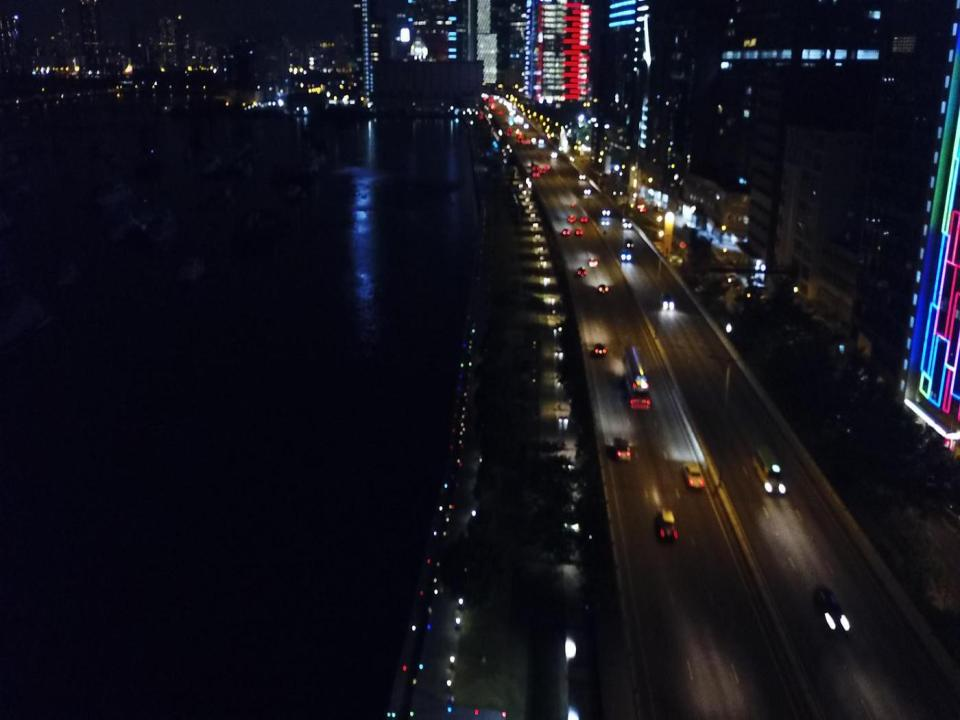bus: (752, 443, 785, 496)
car: (814, 584, 851, 634), (658, 509, 678, 538), (686, 464, 705, 489), (613, 436, 631, 461), (591, 341, 608, 357), (662, 296, 674, 313), (583, 186, 594, 200), (577, 265, 587, 280), (598, 283, 610, 295), (621, 217, 632, 230), (620, 252, 632, 263), (588, 257, 599, 267), (626, 237, 634, 250), (578, 172, 587, 183), (575, 227, 584, 236), (561, 228, 571, 236), (602, 208, 610, 218), (580, 216, 589, 224), (568, 215, 576, 223)
truck: (622, 343, 651, 412)
